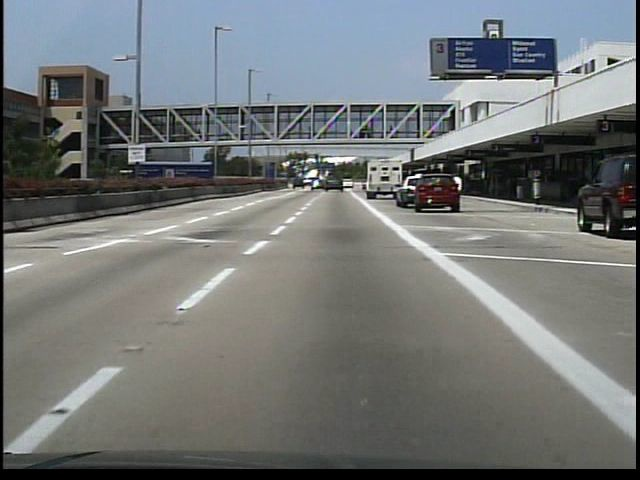person: (449, 174, 468, 211)
